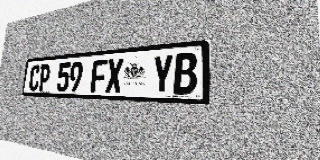5: (56, 62, 71, 92)
9: (68, 61, 83, 92)
B: (173, 52, 197, 95)
C: (28, 65, 41, 91)
F: (90, 59, 107, 92)
P: (38, 64, 51, 91)
X: (105, 58, 124, 93)
Y: (151, 54, 174, 94)
